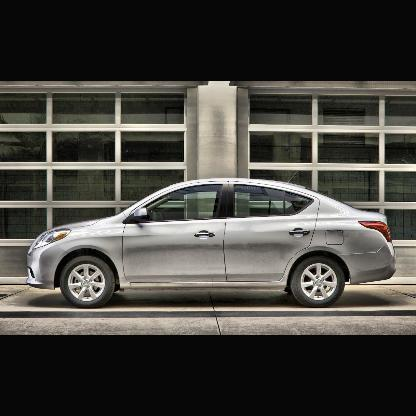Chevrolet Sonic Sedan 2012: (26, 175, 397, 307)
